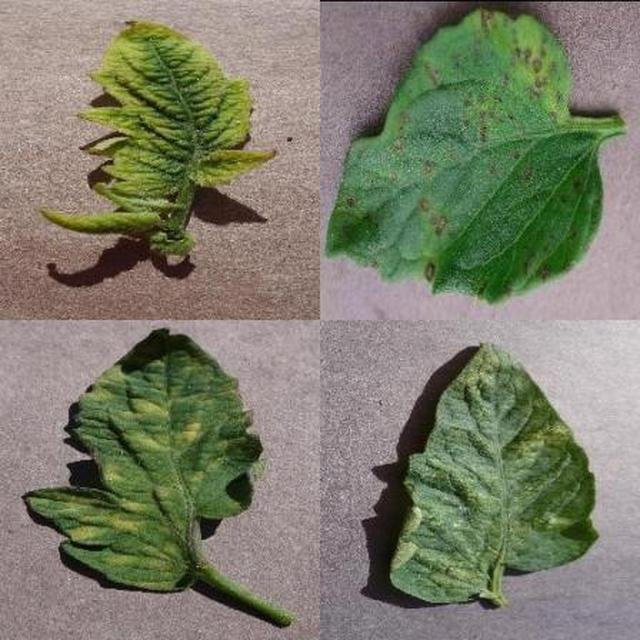Yellow Leaf Curl Virus: (207, 156, 640, 640)
